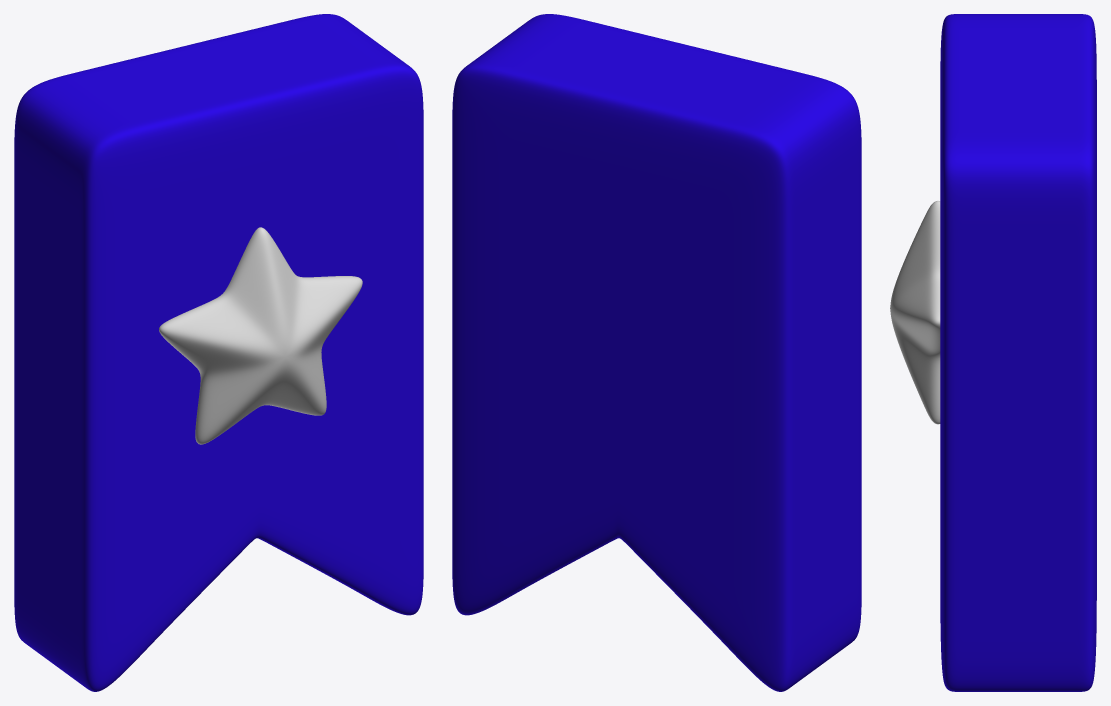
The model's file is real-estate.glb.
3 renders of one model, left to right at view 1: azimuth 30°, elevation 25°; view 2: azimuth 150°, elevation 25°; view 3: azimuth 270°, elevation 25°, orthographic. The views are drawn at different scales.
Parts seen in each view (by area): view 1: real-estate; view 2: real-estate; view 3: real-estate.
Part boxes in pixels (bbox=[...]): real-estate: bbox=[14, 14, 423, 691]; real-estate: bbox=[452, 14, 861, 691]; real-estate: bbox=[890, 14, 1096, 691].
Size of the model in its own units: 1.18 by 1.85 by 0.648.
